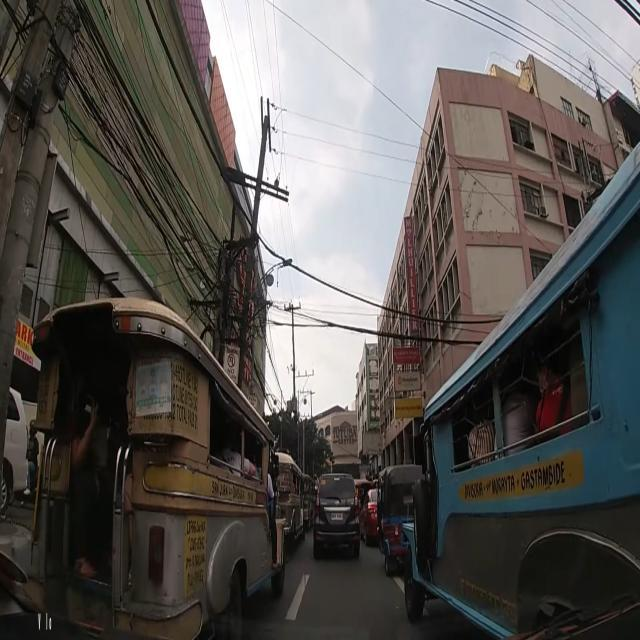car: (314, 472, 360, 560), (358, 489, 378, 546)
jeepney: (405, 143, 640, 640), (15, 295, 283, 639), (276, 451, 304, 554), (303, 473, 315, 532)
tricycle: (376, 464, 422, 578)
